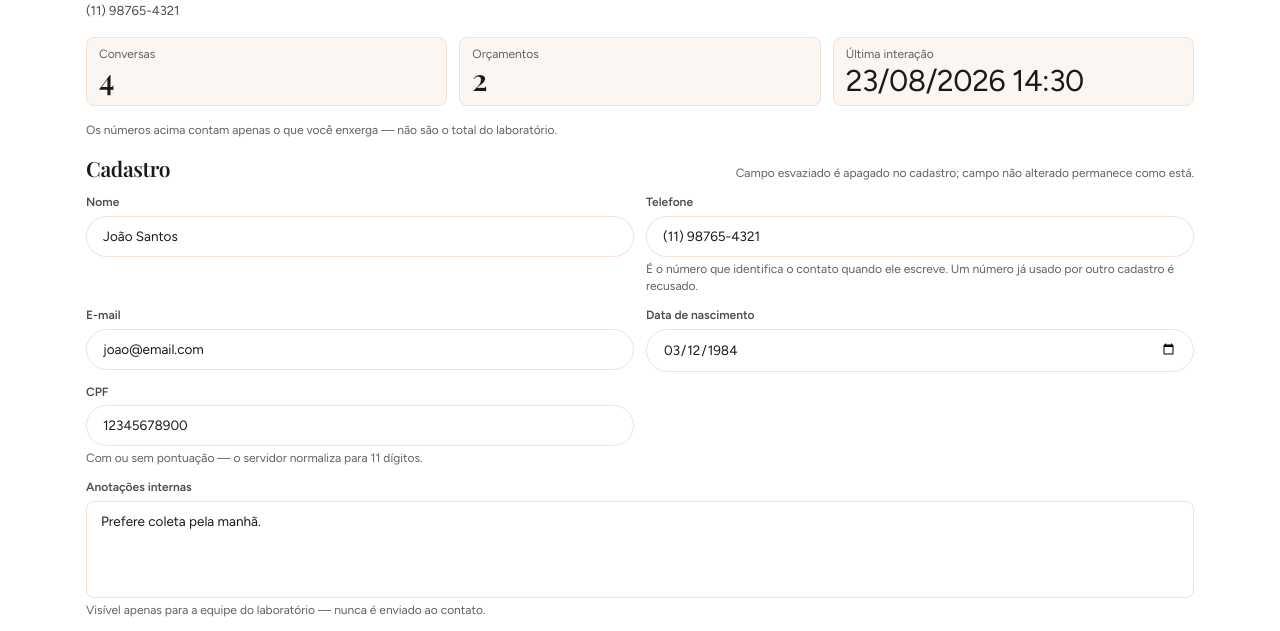
Scenario: Ficha do Paciente › D-106: telefone já usado por outro paciente mostra erro no campo, não trava a tela
Replace the text in the field labelled "Telefone" with "(48) 99999-8888" at (920, 236), box [663,227,1177,246]
(page scrolled)
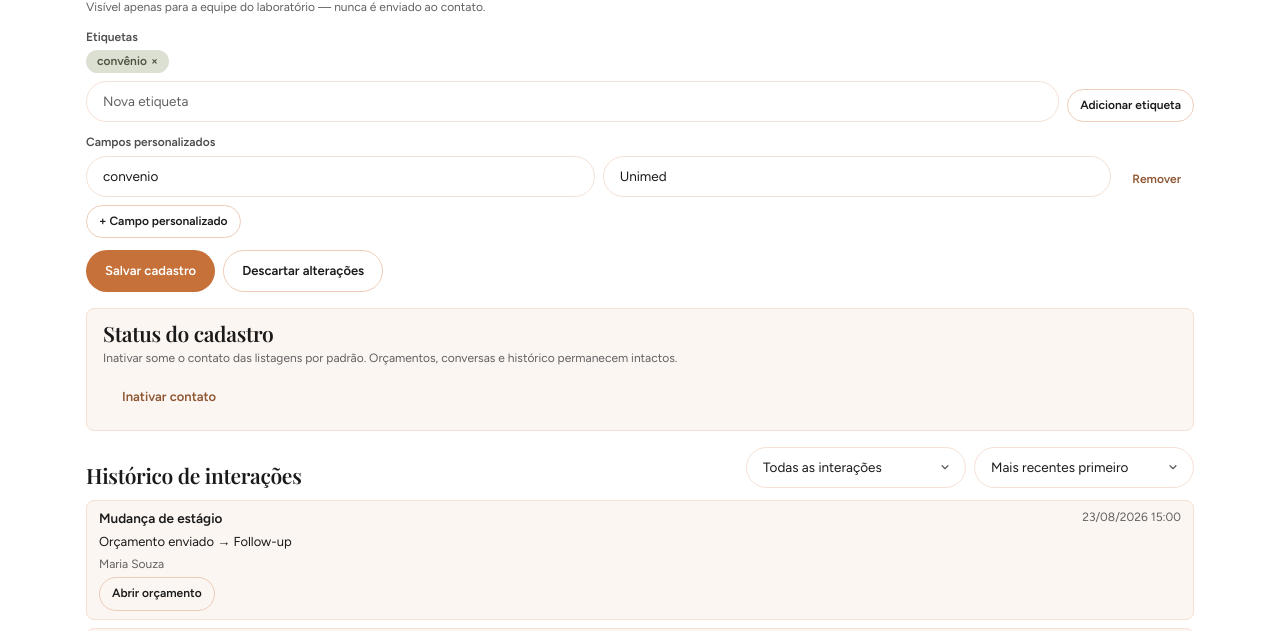
Click the button "Salvar cadastro".
click(151, 271)  # box [86,250,215,292]
(page scrolled)
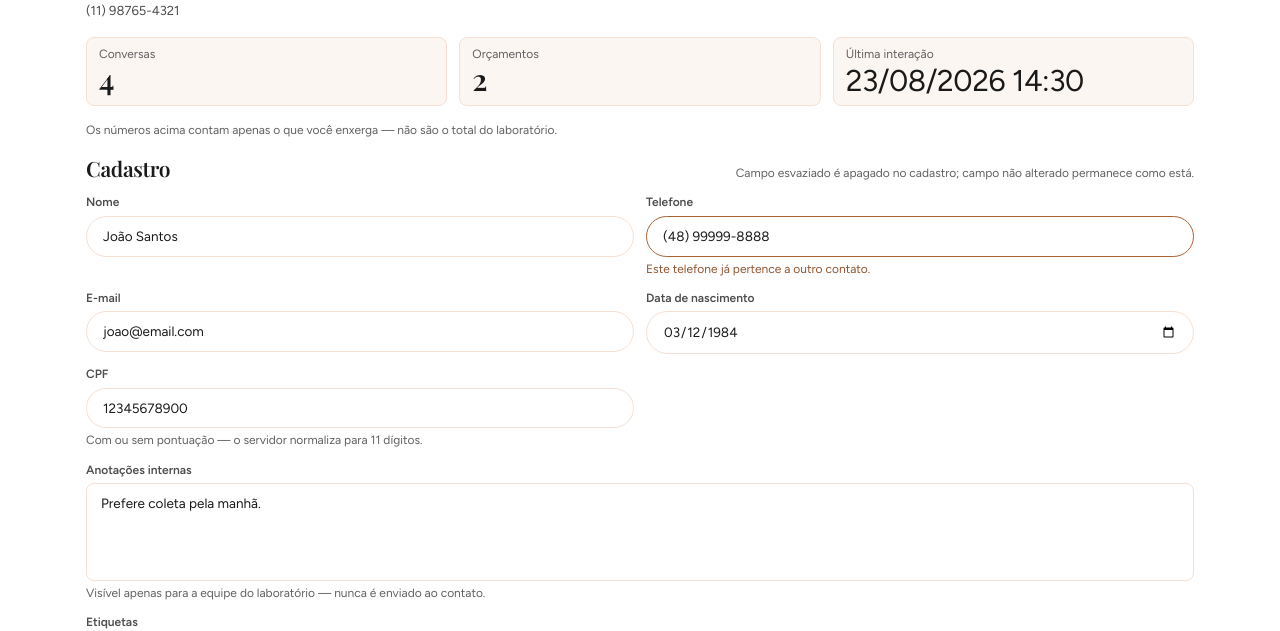
Result: the text "Este telefone já pertence a outro contato." is shown at [646,262,870,276]
